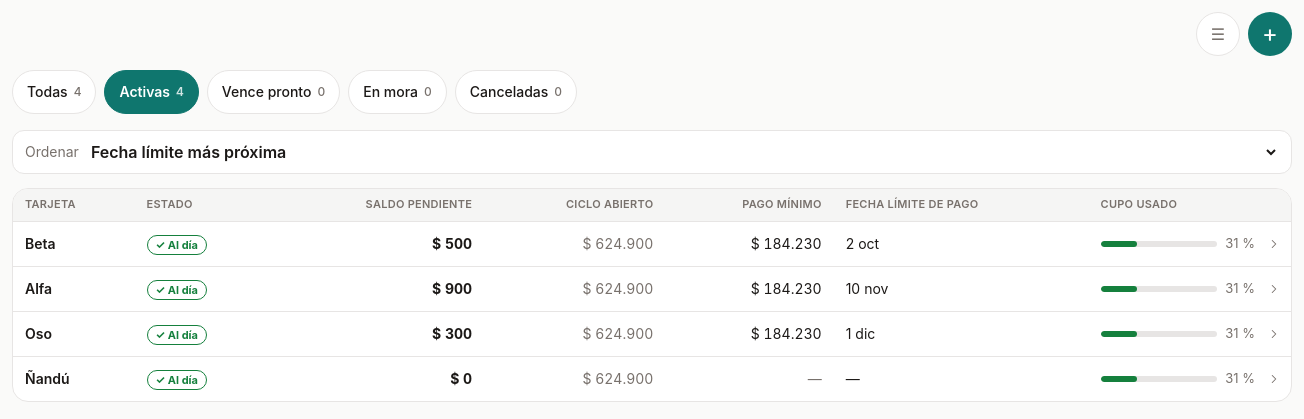
Test: CardsPanel › sorting › offers the same sort in the table view
Expected: the table named "Tarjetas de crédito" is shown, [13,189,1291,401]
Select "Nombre" in the dropdown labelled "Ordenar" at (683, 152), box [87,141,1279,163]
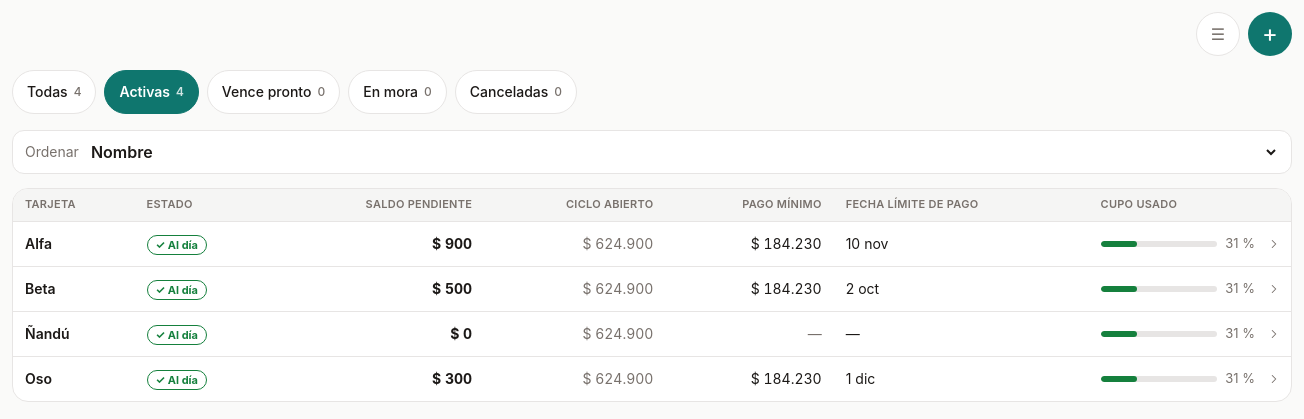
Expected: the links read "Alfa", "Beta", "Ñandú", "Oso", in this order, [25,235,52,252]; [25,280,56,297]; [25,325,70,342]; [25,370,52,387]
